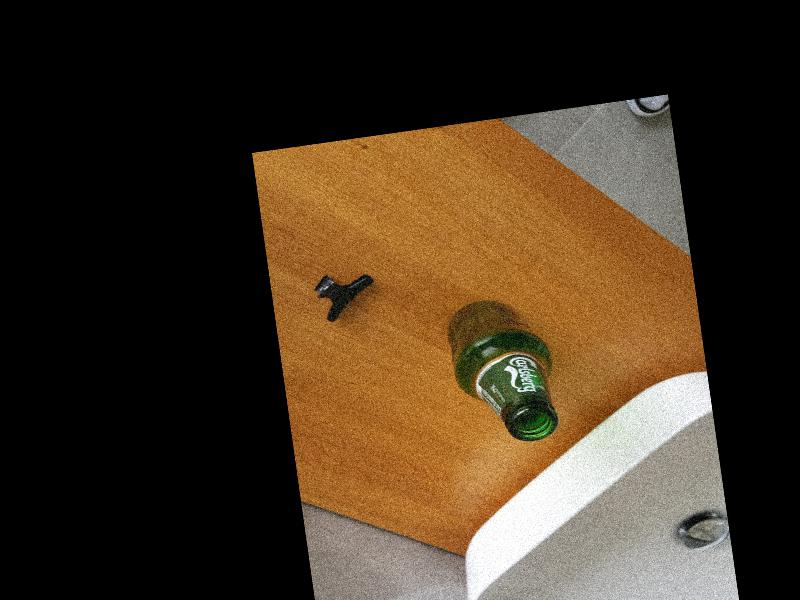Beer: (444, 291, 561, 449)
